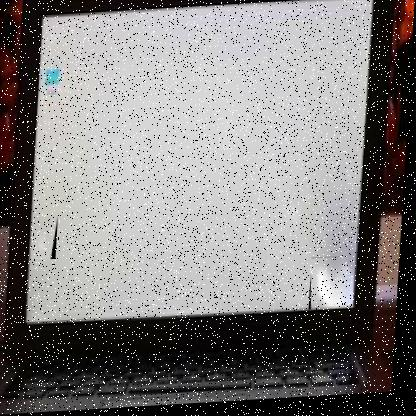spot: (311, 260, 358, 315), (35, 217, 61, 262)
